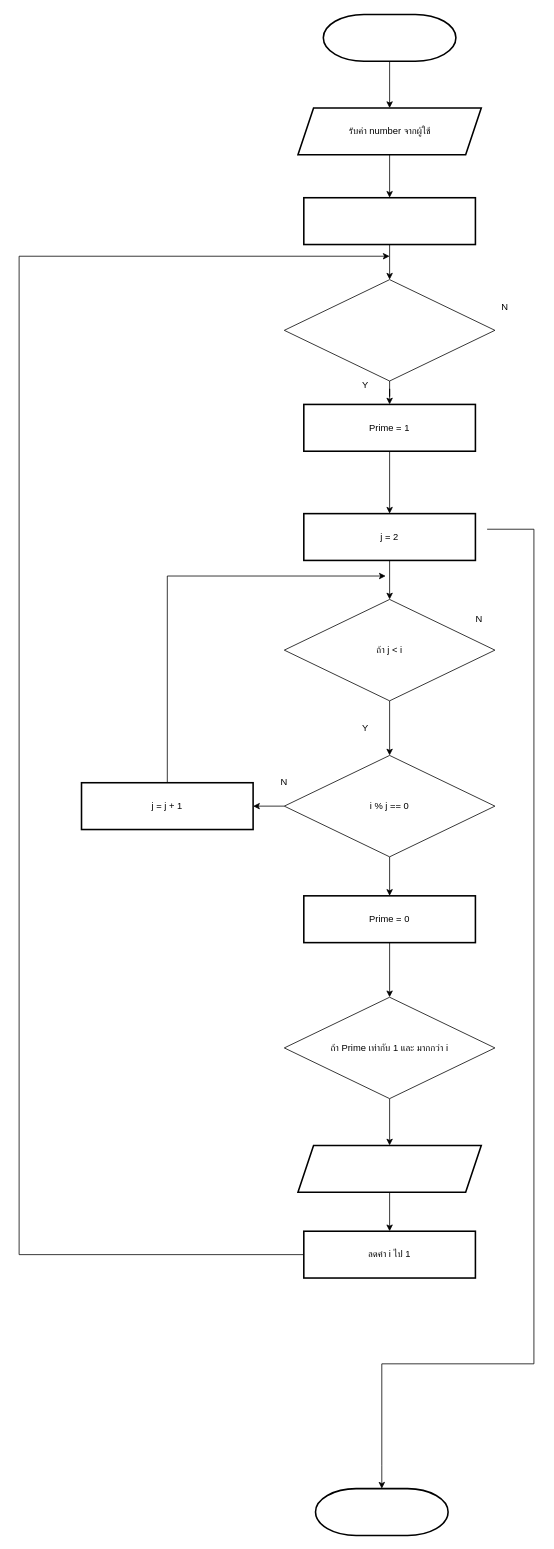
The diagram is 554 pixels wide and 1549 high, and some of its shapes have lost their labels. The centre of each missing label's shape, as x and y in pixels:
"กำหนดค่า i = number" goes at point (389, 221).
"จบ" goes at point (381, 1511).
"ถ้า i >= 2" goes at point (389, 330).
"เริ่ม" goes at point (389, 37).
"แสดงค่า i" goes at point (389, 1168).
